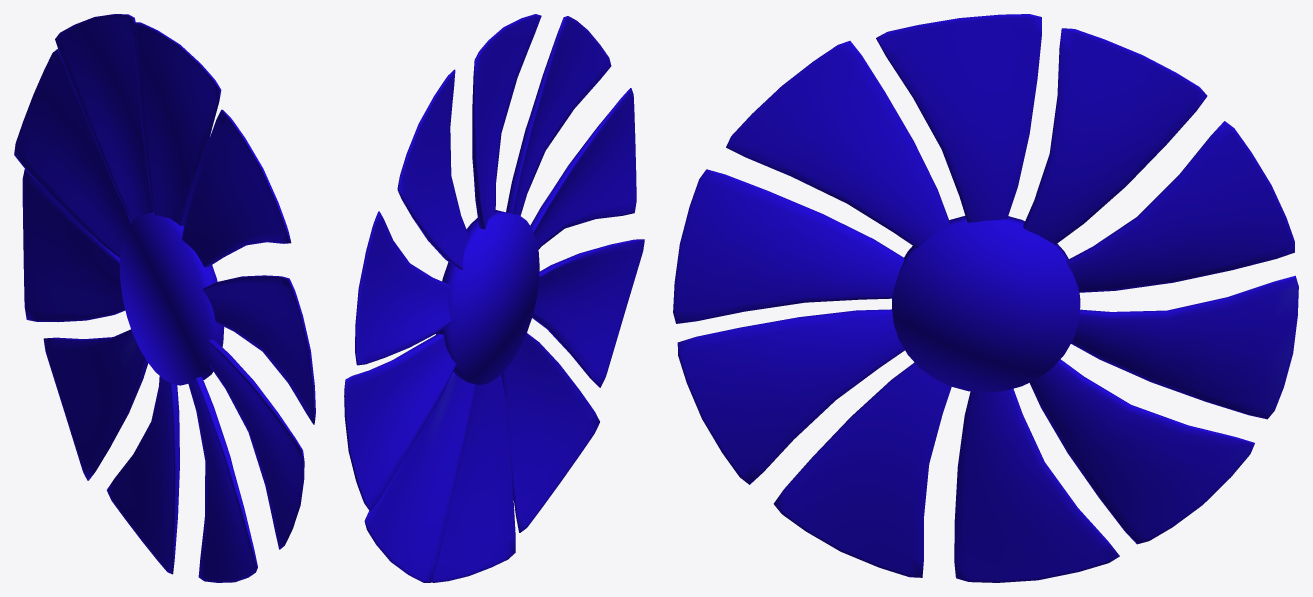
Rendered from MoneyPrinterFan.fbx.
3 views of the same model, side by side, from view 1: azimuth 30°, elevation 25°; view 2: azimuth 150°, elevation 25°; view 3: azimuth 270°, elevation 25° (orthographic). The views are drawn at different scales.
Parts seen in each view (by area): view 1: Fluent_Wire.004; view 2: Fluent_Wire.004; view 3: Fluent_Wire.004.
Boxes of the visible parts, x1,y1,x2,y2 form: Fluent_Wire.004: [14, 14, 315, 582]; Fluent_Wire.004: [344, 14, 644, 582]; Fluent_Wire.004: [673, 14, 1298, 582].
Size of the model in its own units: 0.2159 by 4.17 by 4.16.
